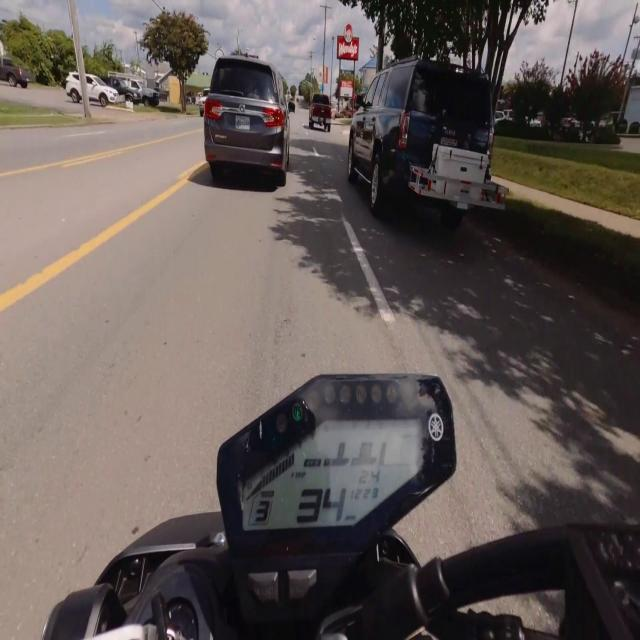car: (348, 57, 507, 228), (204, 56, 289, 186), (86, 75, 124, 106)
motorcycle: (42, 375, 639, 639)
